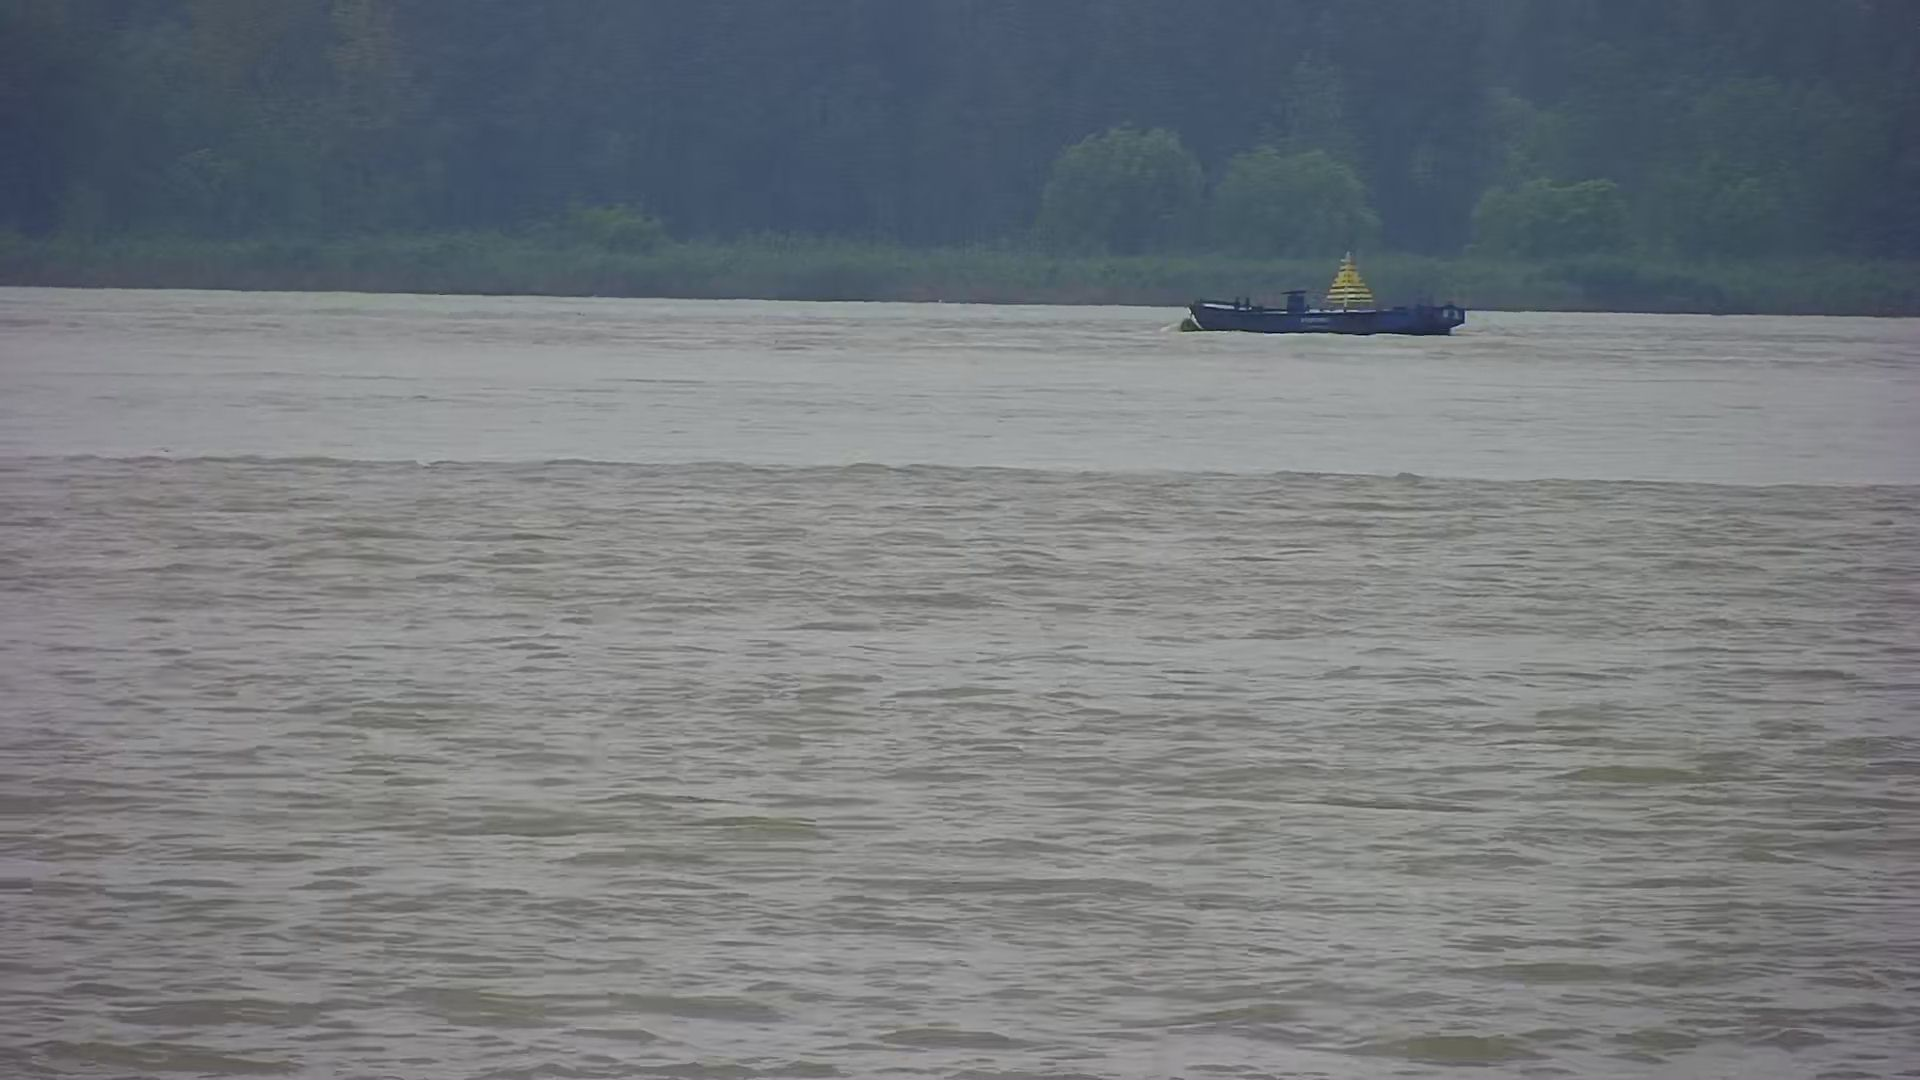boat: (1180, 235, 1472, 342)
